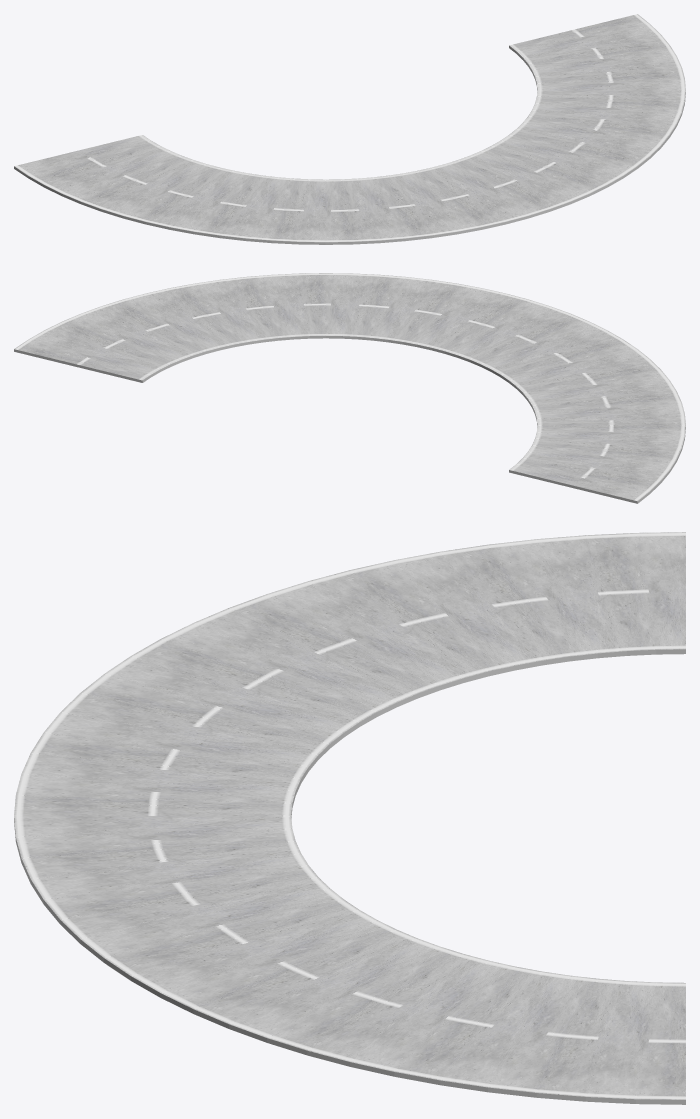
File: curved_road_10.dae
3 renders of one model, top to bottom at view 1: azimuth 30°, elevation 25°; view 2: azimuth 150°, elevation 25°; view 3: azimuth 270°, elevation 25°, orthographic. The views are drawn at different scales.
Parts seen in each view (by area): view 1: Cube; view 2: Cube; view 3: Cube.
Part boxes in pixels (x1,y1,x2,y2): Cube: [14, 14, 685, 244]; Cube: [14, 273, 685, 503]; Cube: [14, 532, 685, 1104].
Size of the model in its own units: 25.2 by 12.6 by 0.1.
1 material, 1 textured.
